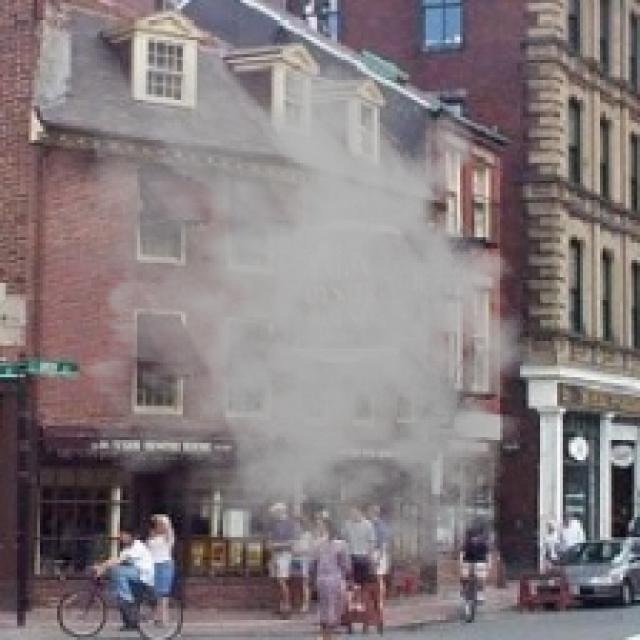smoke: (20, 12, 563, 574)
